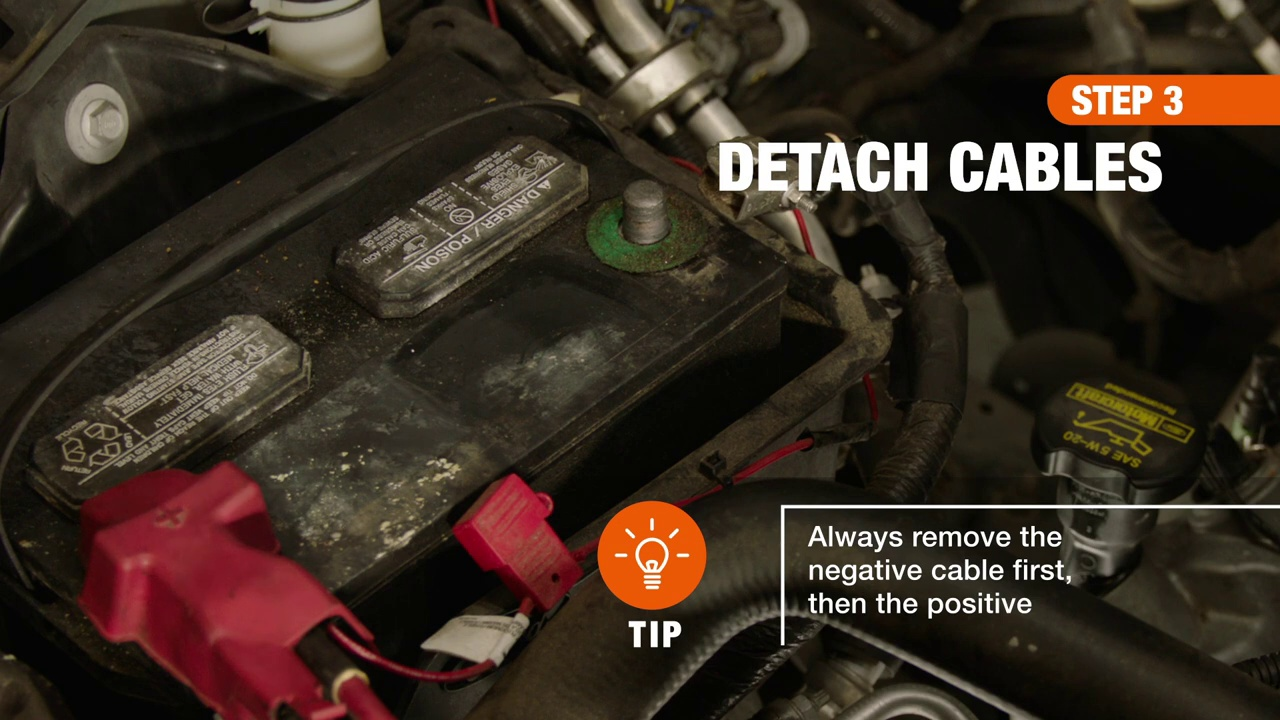battery: (30, 47, 784, 692)
neg_disconnected: (569, 151, 729, 330)
pos_connected: (74, 448, 345, 696)
